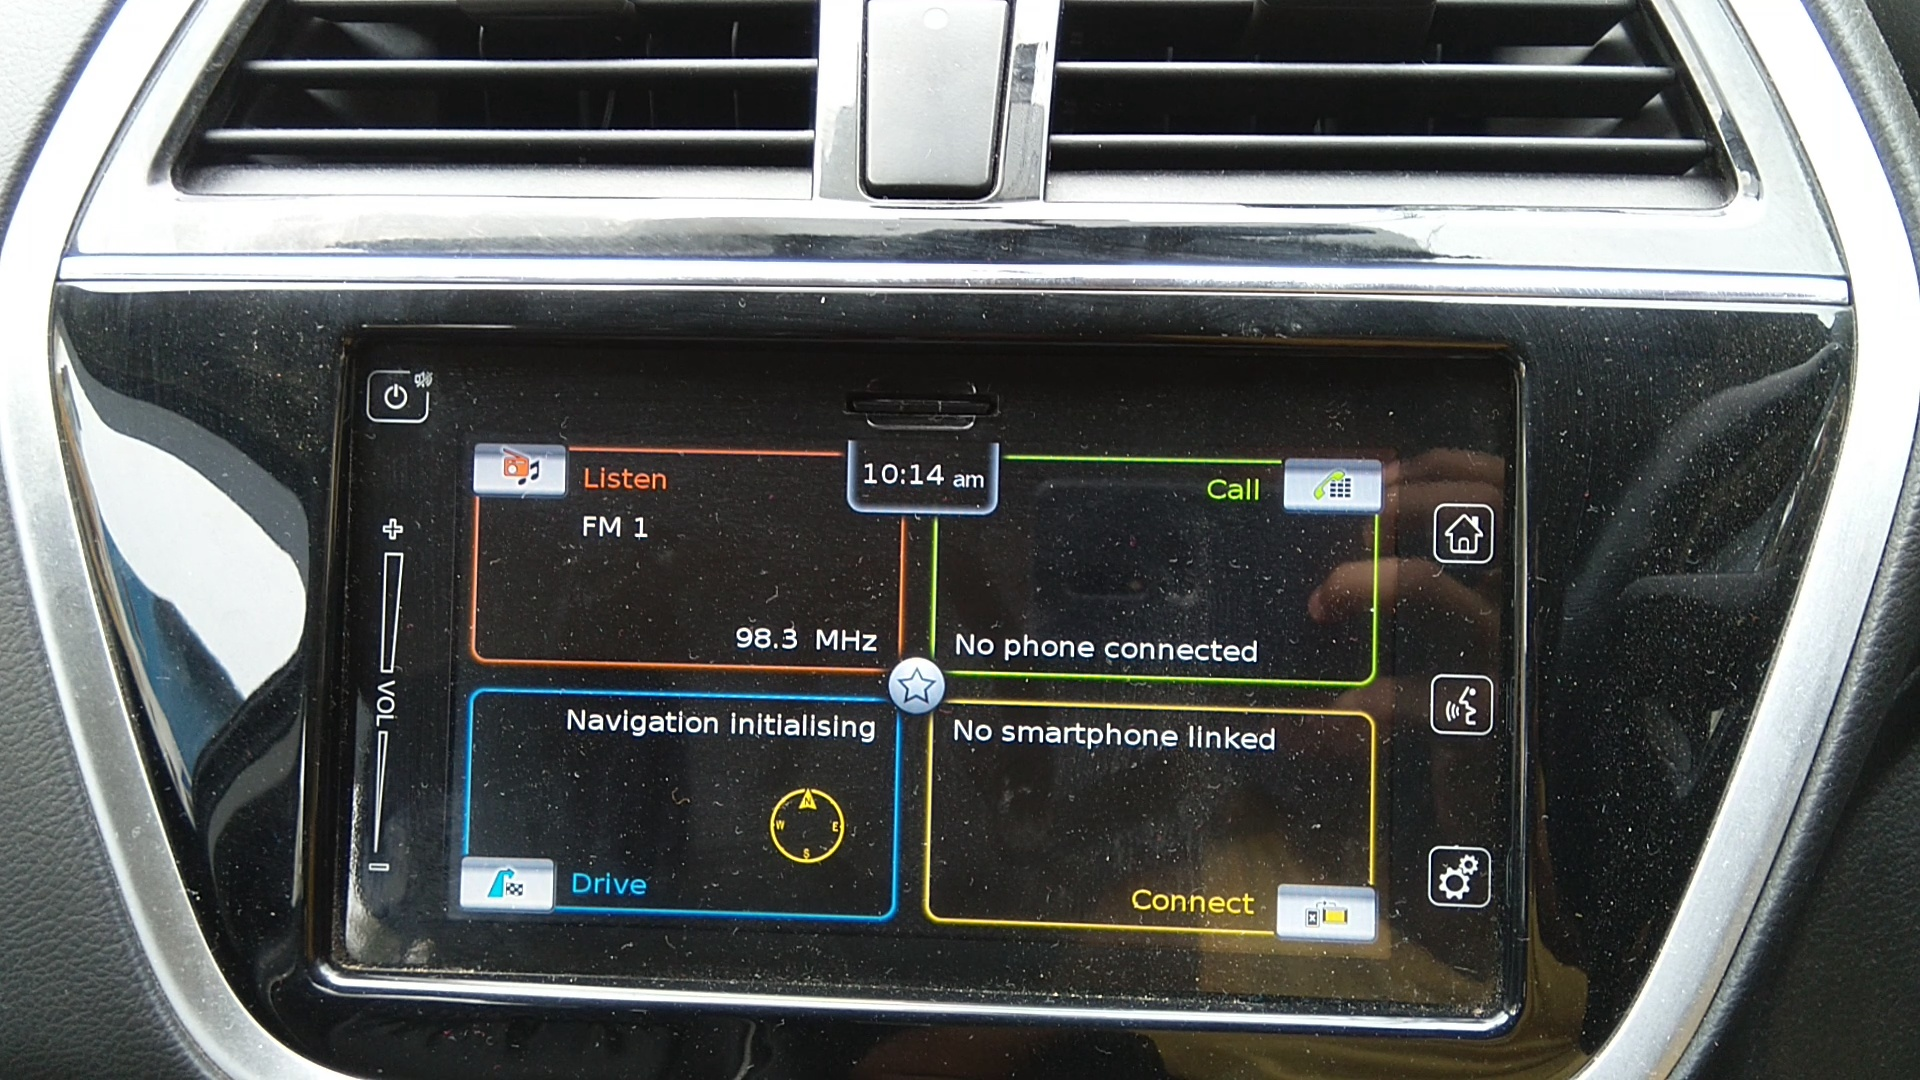touch_infotainment: (289, 302, 1556, 1065)
